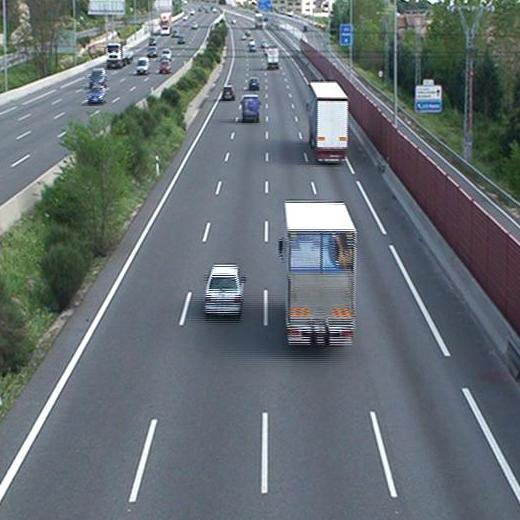car: (204, 265, 245, 320), (221, 85, 235, 101), (247, 77, 260, 90)
small-truck: (277, 199, 358, 345), (265, 47, 281, 71)
truck: (305, 81, 350, 163)
van: (240, 92, 262, 123)
